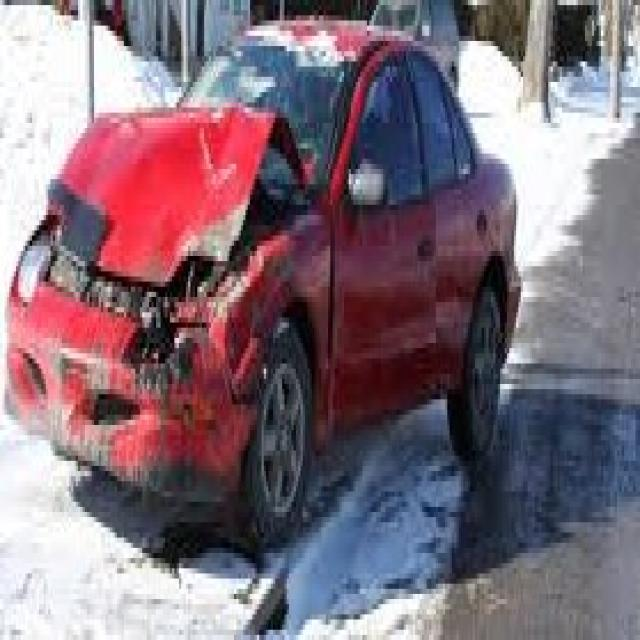severe: (100, 88, 308, 502)
